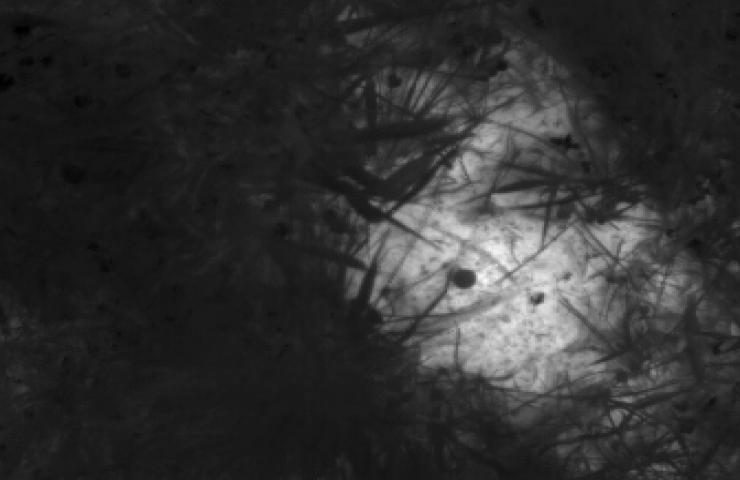landmines: (330, 33, 686, 417)
